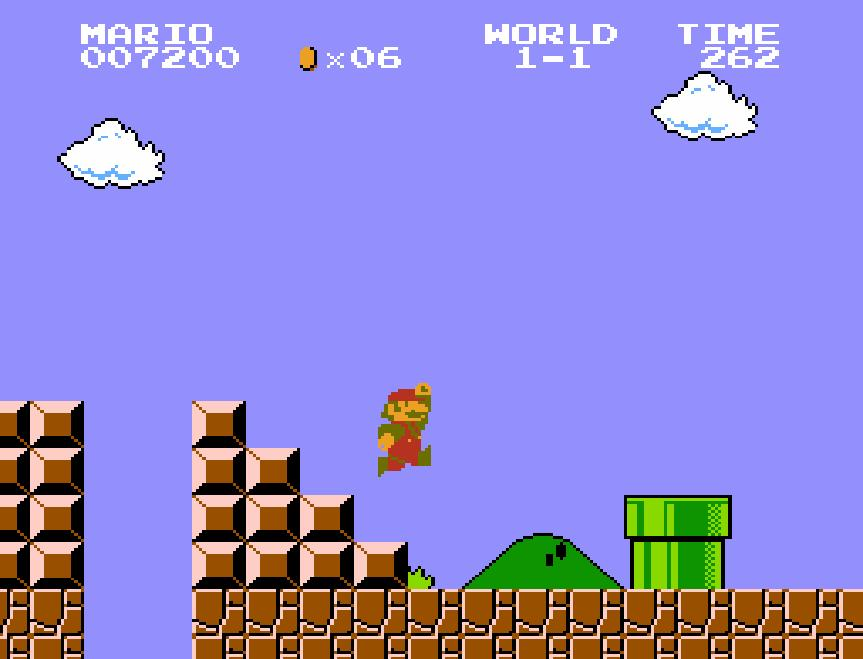big_mario: (376, 381, 434, 479)
